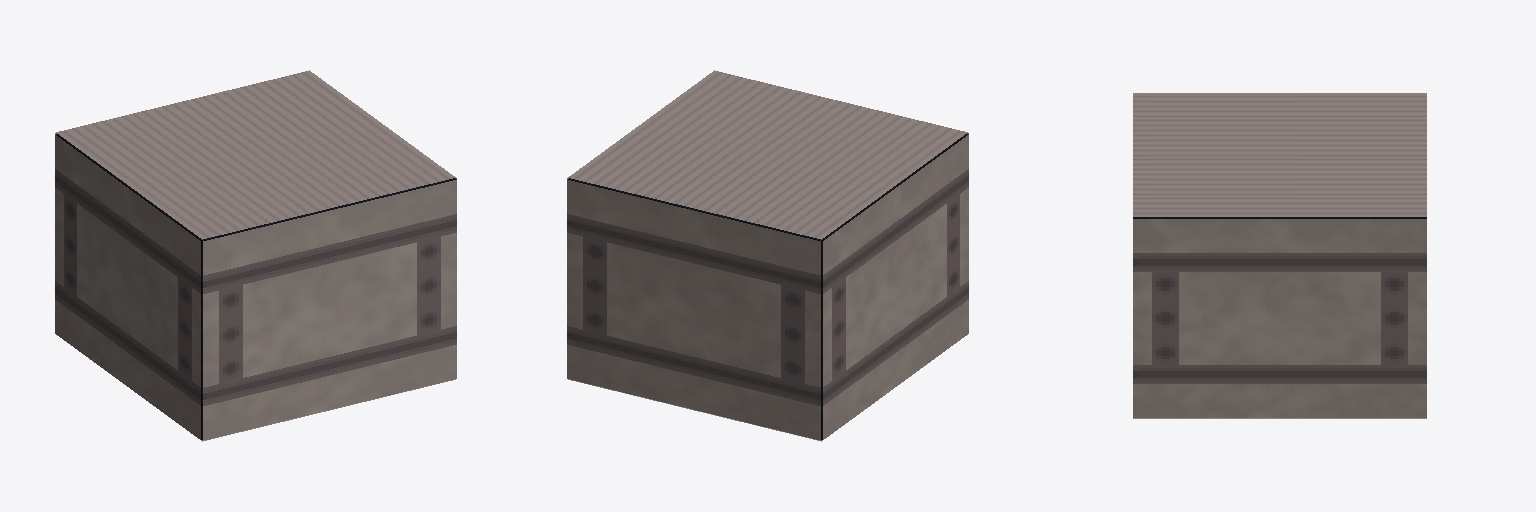
The picture shows the model from 3 angles: view 1: azimuth 30°, elevation 25°; view 2: azimuth 150°, elevation 25°; view 3: azimuth 270°, elevation 25°; orthographic projection.
Visible parts, largest first — view 1: Gravitygenerator5, Gravitygenerator6, Gravitygenerator4, Gravitygenerator1; view 2: Gravitygenerator3, Gravitygenerator6, Gravitygenerator4, Gravitygenerator1; view 3: Gravitygenerator2, Gravitygenerator6, Gravitygenerator1.
Boxes of the visible parts, box(x1,y1,x2,y2) form: Gravitygenerator5: box(203, 180, 456, 440); Gravitygenerator6: box(56, 70, 455, 239); Gravitygenerator4: box(55, 135, 200, 439); Gravitygenerator1: box(56, 134, 455, 439); Gravitygenerator3: box(567, 180, 820, 440); Gravitygenerator6: box(568, 70, 967, 239); Gravitygenerator4: box(823, 135, 968, 439); Gravitygenerator1: box(568, 134, 967, 439); Gravitygenerator2: box(1133, 219, 1426, 417); Gravitygenerator6: box(1133, 93, 1426, 216); Gravitygenerator1: box(1133, 217, 1426, 218).
Bounding box in the file's own units: 4.04 × 3.04 × 4.04.
Materials: 3 (2 with a texture image).